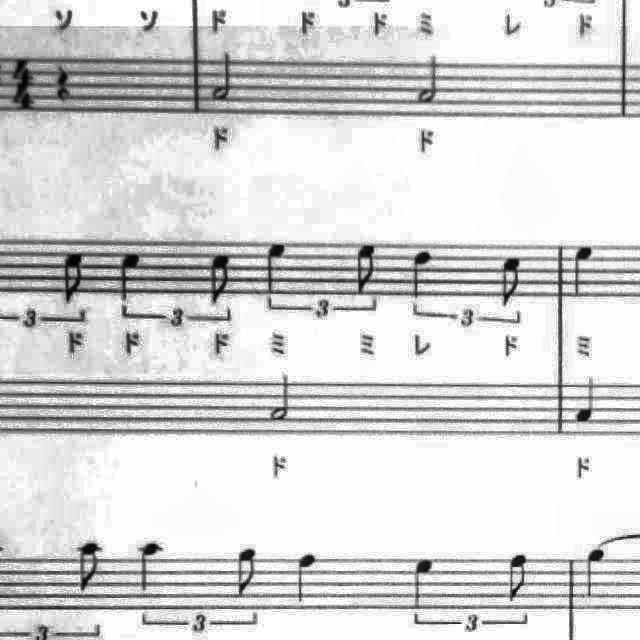Eighth-note: (68, 536, 108, 600), (54, 246, 94, 310), (201, 248, 239, 310), (492, 250, 528, 314), (502, 546, 538, 606), (348, 240, 384, 300), (230, 542, 266, 600)
Half-note: (265, 369, 301, 427), (204, 47, 240, 105), (412, 49, 446, 107)
Quarter-note: (258, 239, 296, 309), (112, 245, 150, 309), (290, 546, 326, 610), (408, 554, 444, 614), (132, 536, 168, 596), (567, 242, 603, 302), (406, 244, 440, 306), (580, 544, 614, 604), (568, 374, 602, 431)
Quarter-rest: (50, 59, 80, 110)
